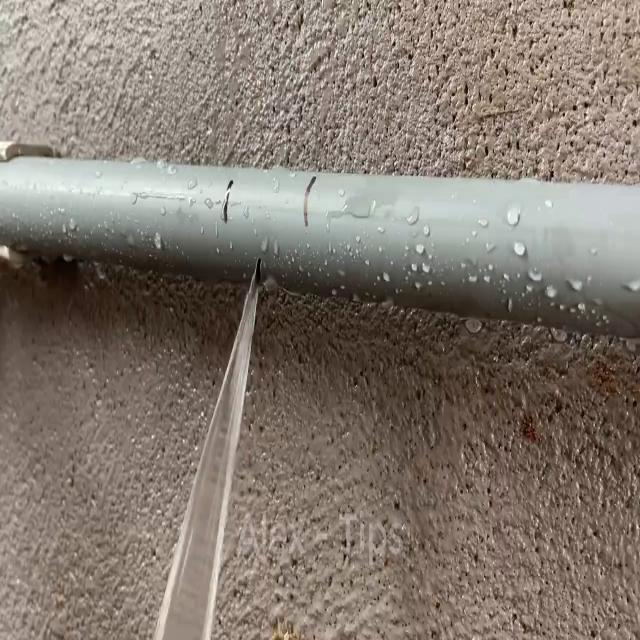leak: (150, 261, 261, 640)
